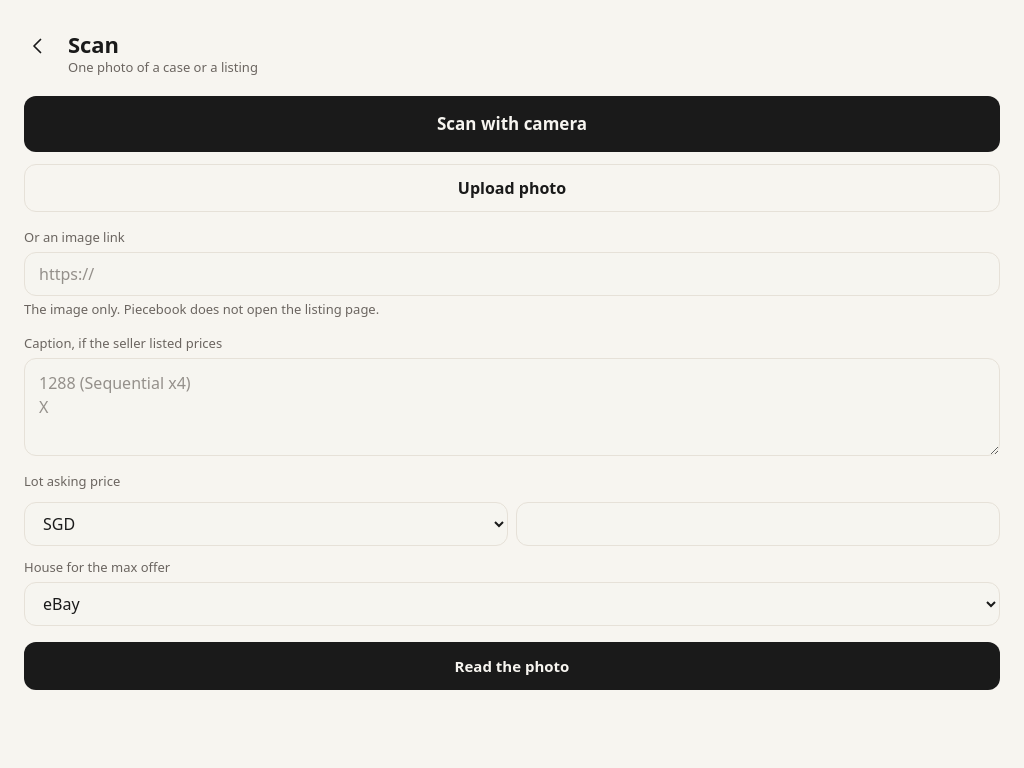
it: scan camera › starts on upload for a desktop pointer and falls back to the file picker without a camera
Click the button "Scan with camera". click: [512, 124]
box: [24,96,1000,152]
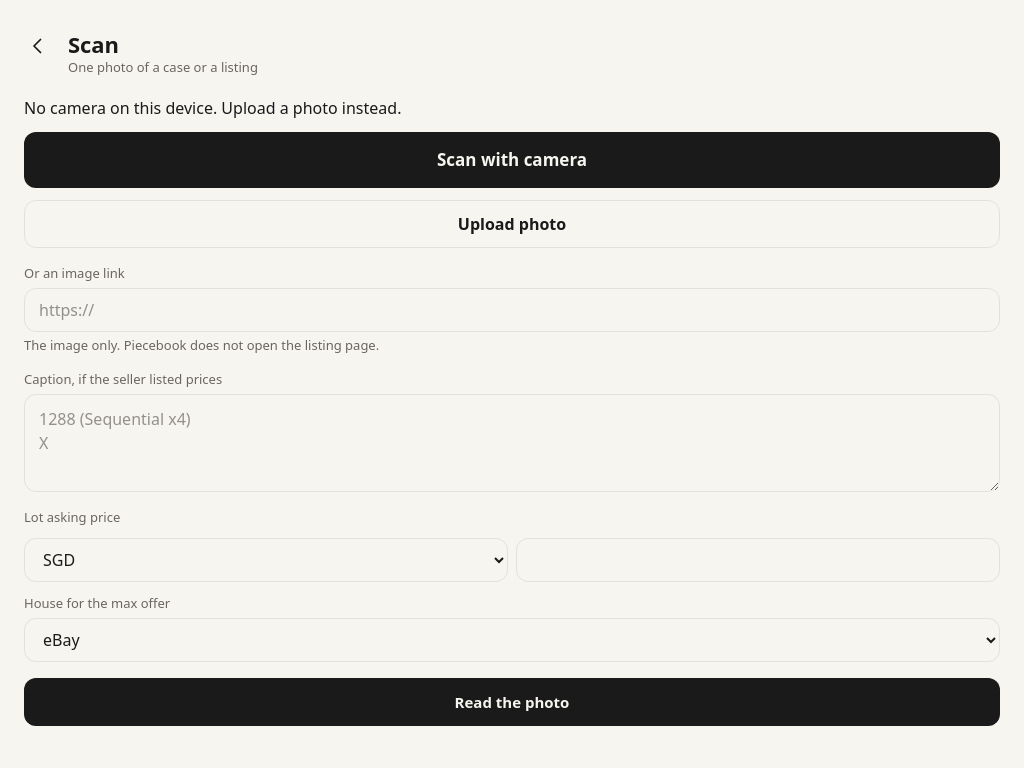
Result: the text "No camera on this device. Upload a photo instead." is shown at [24,97,401,119]
